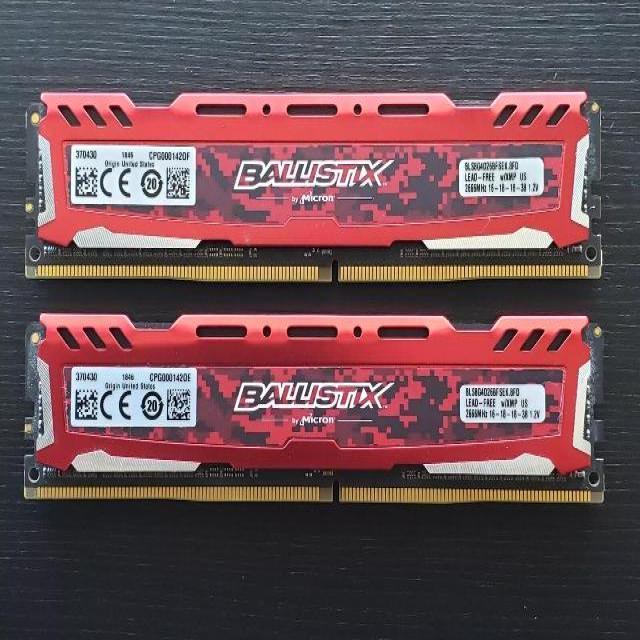RAM: (22, 311, 607, 506), (23, 90, 605, 285)
